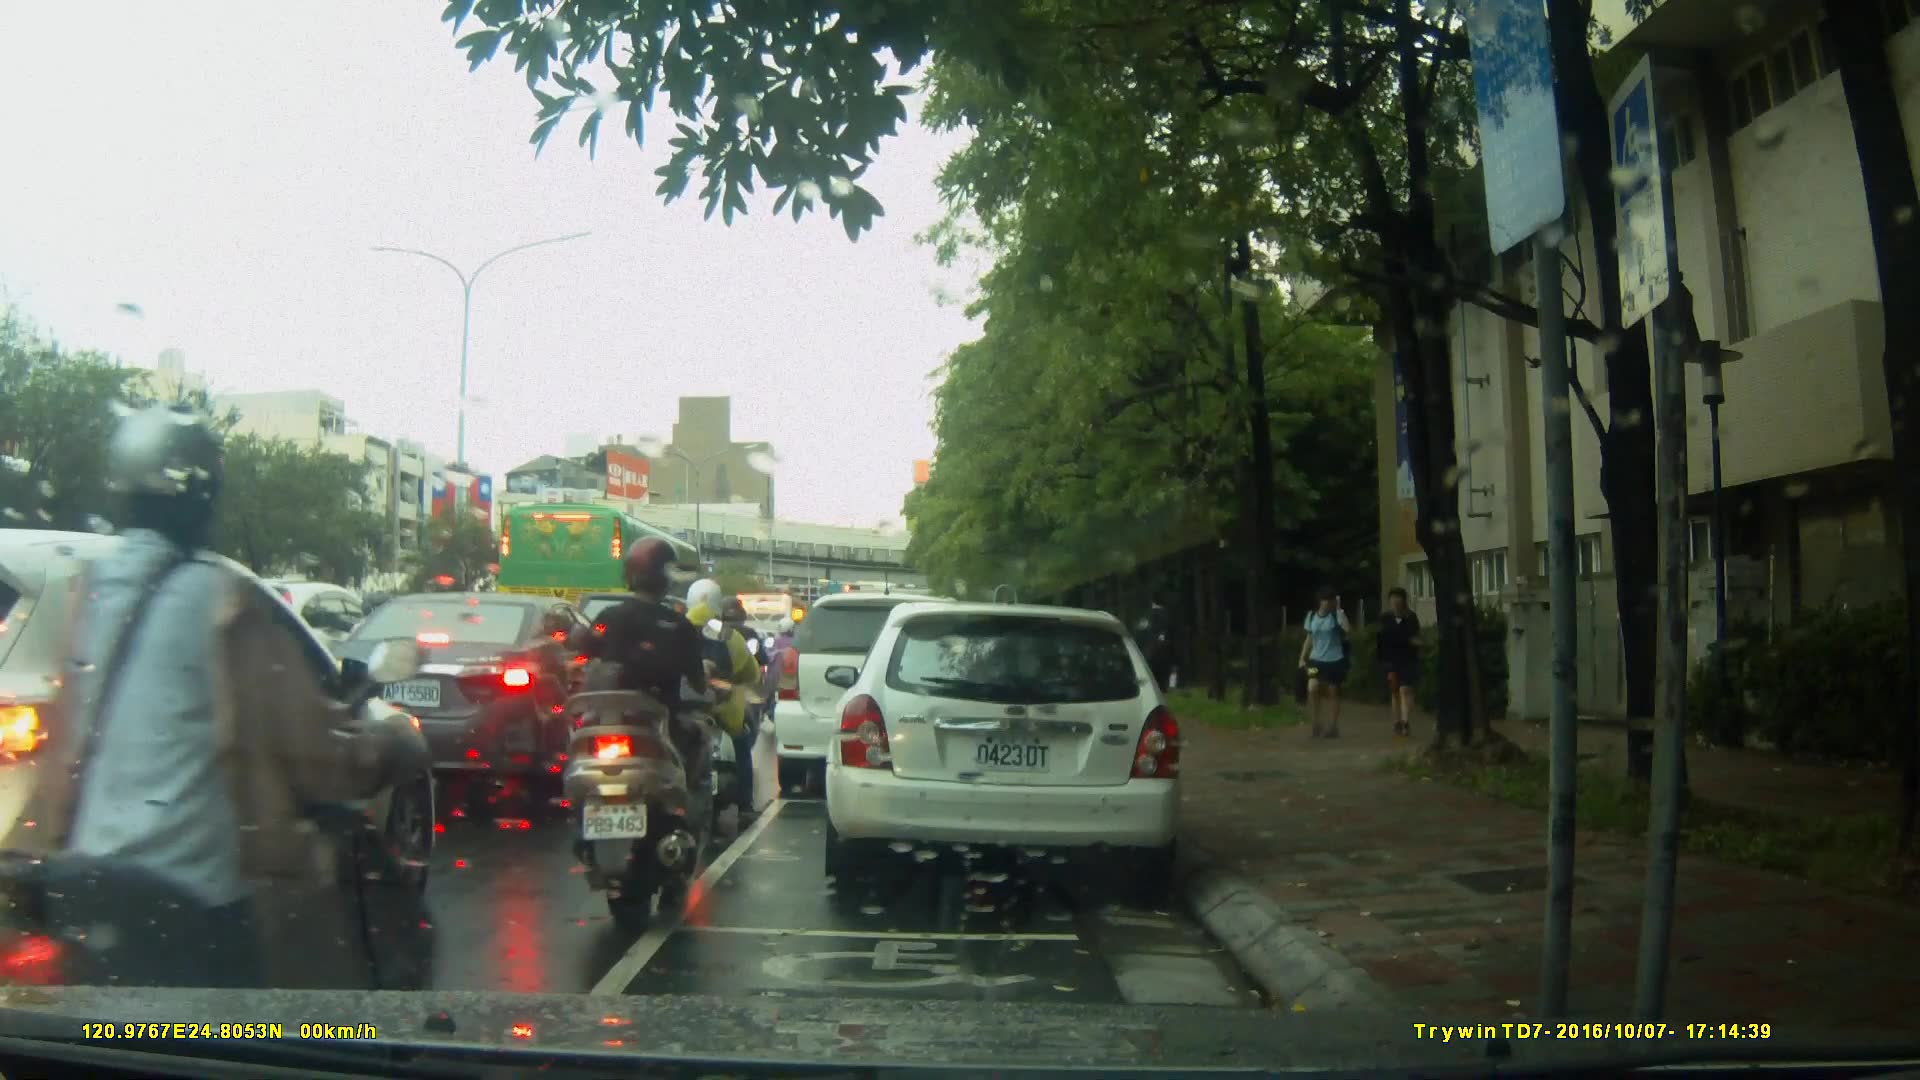pedestrian: (1288, 584, 1363, 746), (1377, 579, 1430, 744), (1132, 593, 1181, 743)
rider: (16, 392, 433, 1080), (564, 536, 711, 917), (671, 574, 762, 825), (760, 617, 812, 716)
vehicle: (1, 529, 445, 986), (831, 592, 1196, 897), (312, 590, 648, 807), (770, 592, 999, 801), (495, 502, 707, 638)
